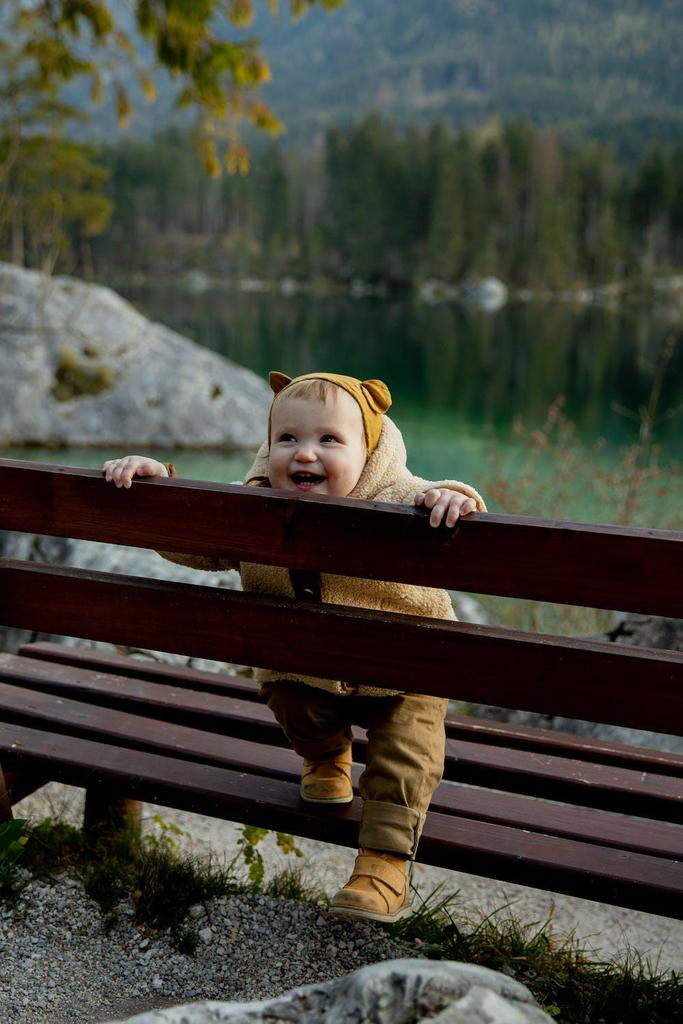child: (112, 351, 522, 928)
